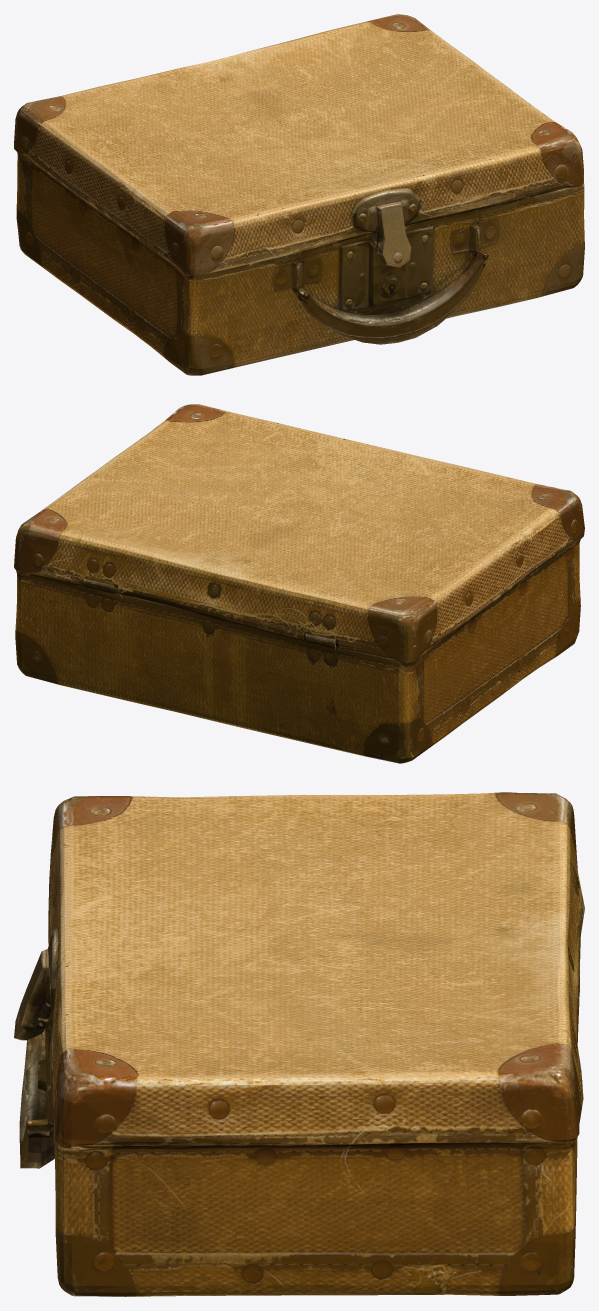
Rendered from vintage_suitcase.obj.
The picture shows the model from 3 angles, top to bottom: view 1: azimuth 30°, elevation 25°; view 2: azimuth 150°, elevation 25°; view 3: azimuth 270°, elevation 25°; orthographic projection. The views are drawn at different scales.
Bounding box in the file's own units: 0.5122 × 0.1892 × 0.4244.
